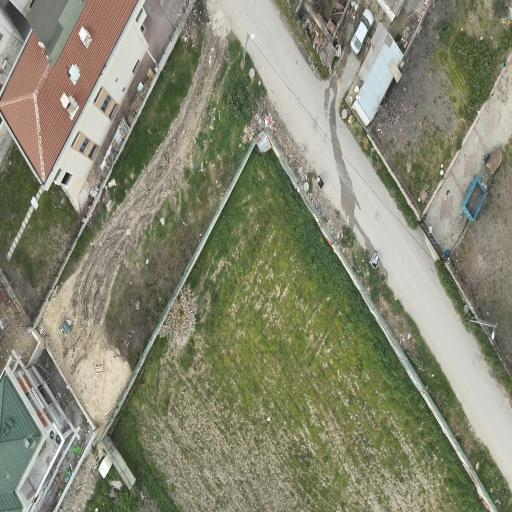car: (351, 9, 373, 55)
